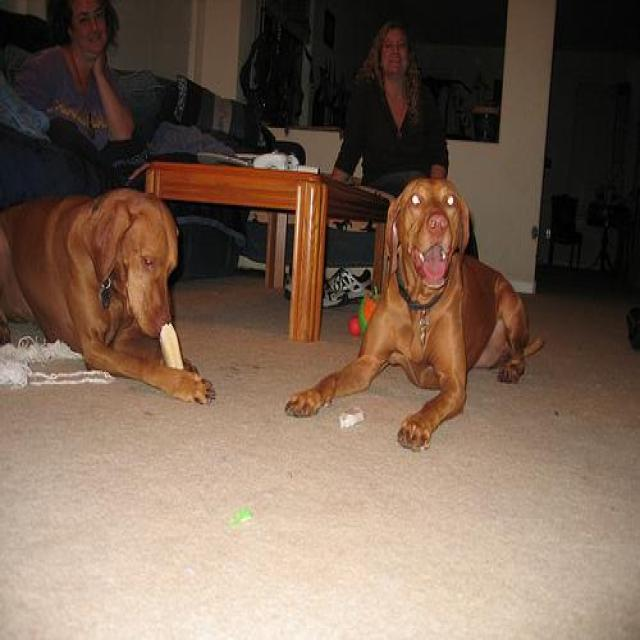vizsla: (282, 174, 545, 452), (0, 184, 216, 409)
